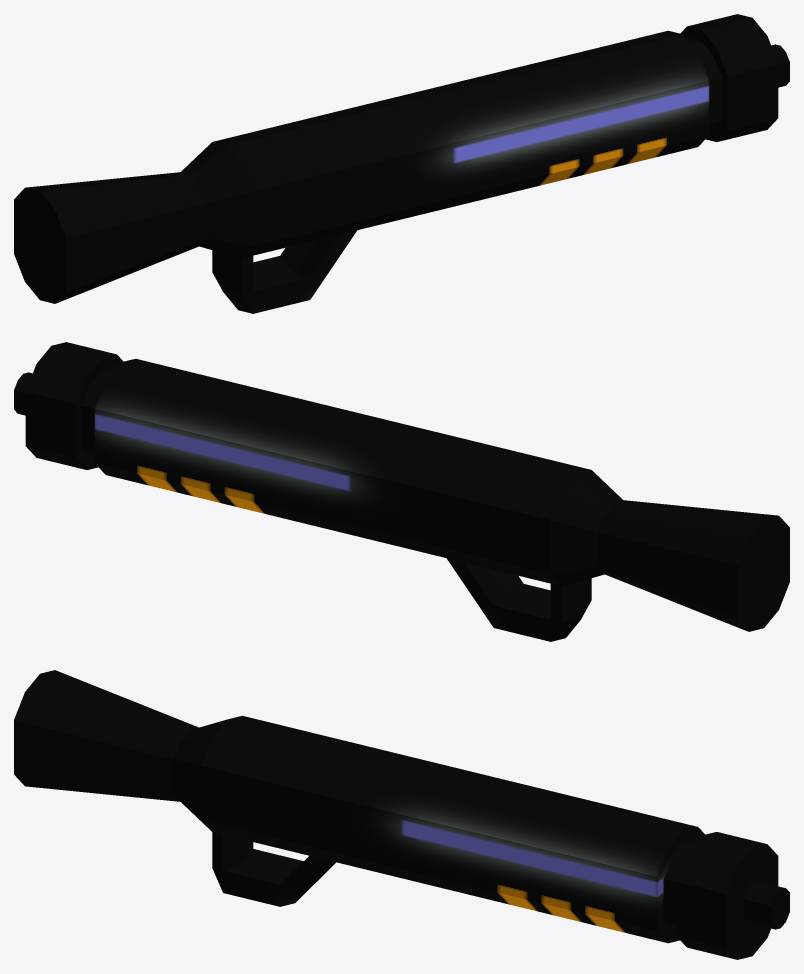
File: gun1.fbx
3 renders of one model, top to bottom at view 1: azimuth 30°, elevation 25°; view 2: azimuth 150°, elevation 25°; view 3: azimuth 330°, elevation 25°, orthographic.
Visible parts, largest first — view 1: gun; view 2: gun; view 3: gun.
Boxes of the visible parts, x1,y1,x2,y2 form: gun: (14,14,789,313); gun: (14,342,789,641); gun: (14,670,789,959).
Bounding box in the file's own units: 173 × 1423 × 307.
